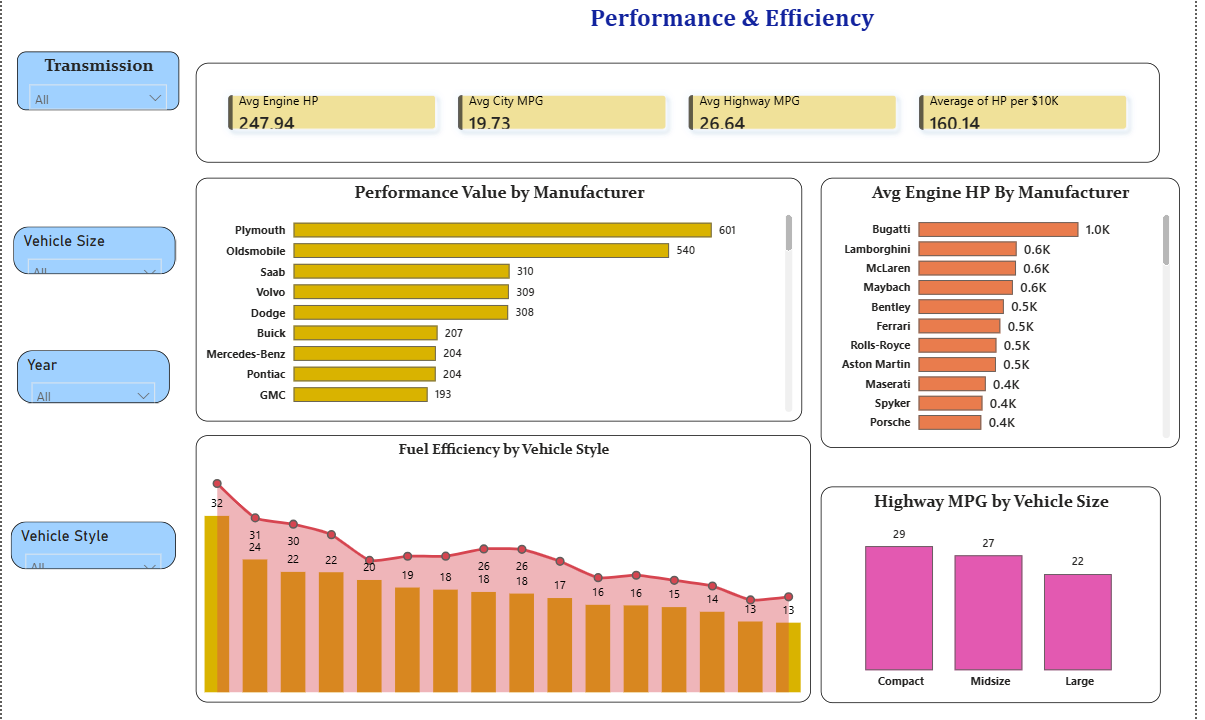

The page's visual inventory and layout, read from the dashboard file:
{"tool":"powerbi","page":{"name":"Performance & Efficiency","canvas":[1301,802],"ordinal":2},"visuals":[{"type":"textbox","box":[428,14.7,736.1,50.1],"z":0},{"type":"cardVisual","fields":{"Data":["Measure Table.Avg Engine HP","Measure Table.Avg City MPG","Measure Table.Avg Highway MPG","Avg(public car_sales.HP per $10K)"]},"box":[211.1,85.8,1050.2,109],"z":1000},{"type":"barChart","title":"Avg Engine HP By Manufacturer","fields":{"Y":["Measure Table.Avg Engine HP"],"Category":["public car_sales.make"]},"box":[892.2,211.1,390.9,294.2],"z":2000},{"type":"lineStackedColumnComboChart","title":"Fuel Efficiency by Vehicle Style","fields":{"Y":["Measure Table.Avg City MPG"],"Category":["public car_sales.vehicle_style"],"Y2":["Measure Table.Avg Highway MPG"]},"box":[211.1,491.7,670.2,291.5],"z":3000},{"type":"clusteredBarChart","title":"Performance Value by Manufacturer","fields":{"Category":["public car_sales.make"],"Y":["Avg(public car_sales.HP per $10K)"]},"box":[211.1,211.1,660.6,265.6],"z":4000},{"type":"columnChart","title":"Highway MPG by Vehicle Size","fields":{"Category":["public car_sales.vehicle_size"],"Y":["Measure Table.Avg Highway MPG"]},"box":[892.2,547.6,370.5,235.6],"z":7000},{"type":"slicer","title":"Transmission","fields":{"Values":["public car_sales.vehicle_size"]},"box":[16.3,73.6,177.1,64],"z":8000},{"type":"slicer","title":"Vehicle Style","fields":{"Values":["public car_sales.vehicle_style"]},"box":[9.5,585.7,179.8,51.8],"z":9000},{"type":"slicer","title":"Vehicle Size","fields":{"Values":["public car_sales.vehicle_size"]},"box":[12.3,264.2,177.1,51.8],"z":10000},{"type":"slicer","title":"Year","fields":{"Values":["public car_sales.vehicle_style"]},"box":[16.3,399.1,166.2,57.2],"z":11000}]}

Visuals, with their boxes in screenshot pixels (x1, y1, x2, y2):
textbox: <box>392,0,1066,41</box>
cardVisual - Measure Table.Avg Engine HP x Measure Table.Avg City MPG: <box>193,60,1155,160</box>
"Avg Engine HP By Manufacturer" barChart: <box>817,175,1175,444</box>
"Fuel Efficiency by Vehicle Style" lineStackedColumnComboChart: <box>193,432,807,699</box>
"Performance Value by Manufacturer" clusteredBarChart: <box>193,175,799,418</box>
"Highway MPG by Vehicle Size" columnChart: <box>817,483,1157,699</box>
"Transmission" slicer: <box>15,49,177,107</box>
"Vehicle Style" slicer: <box>9,518,173,565</box>
"Vehicle Size" slicer: <box>11,223,174,271</box>
"Year" slicer: <box>15,347,167,399</box>
